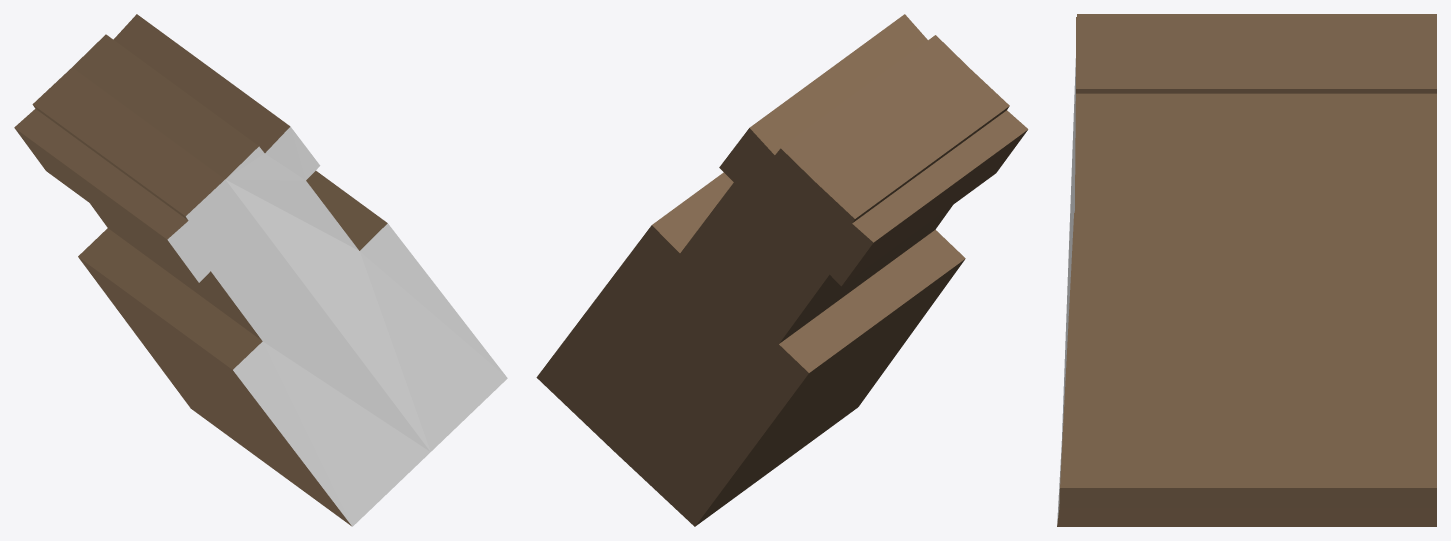
3 views of the same model, side by side, from view 1: azimuth 30°, elevation 25°; view 2: azimuth 150°, elevation 25°; view 3: azimuth 270°, elevation 25° (orthographic). The views are drawn at different scales.
Visible parts, largest first — view 1: City_PC-08662; view 2: City_PC-08662; view 3: City_PC-08662.
Part boxes in pixels (x1,y1,x2,y2): City_PC-08662: (14,14,507,526); City_PC-08662: (536,14,1028,526); City_PC-08662: (1057,14,1436,526).
Bounding box in the file's own units: 1861 × 2176 × 1564.
